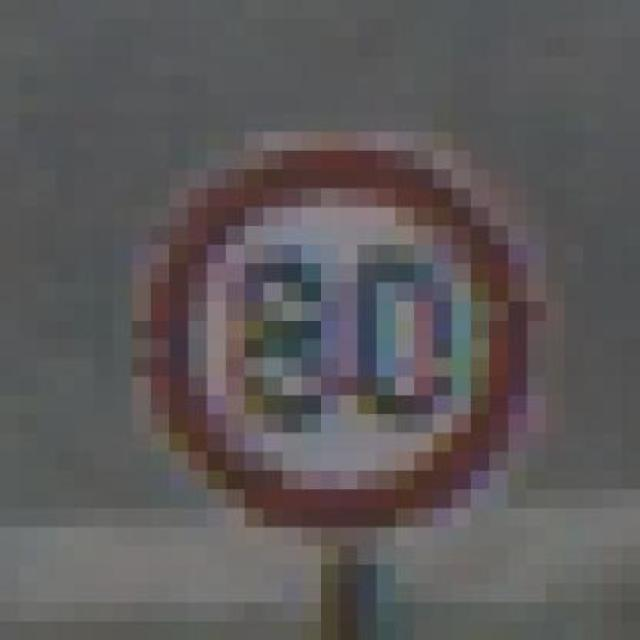forb_speed_over_80: (153, 141, 530, 524)
